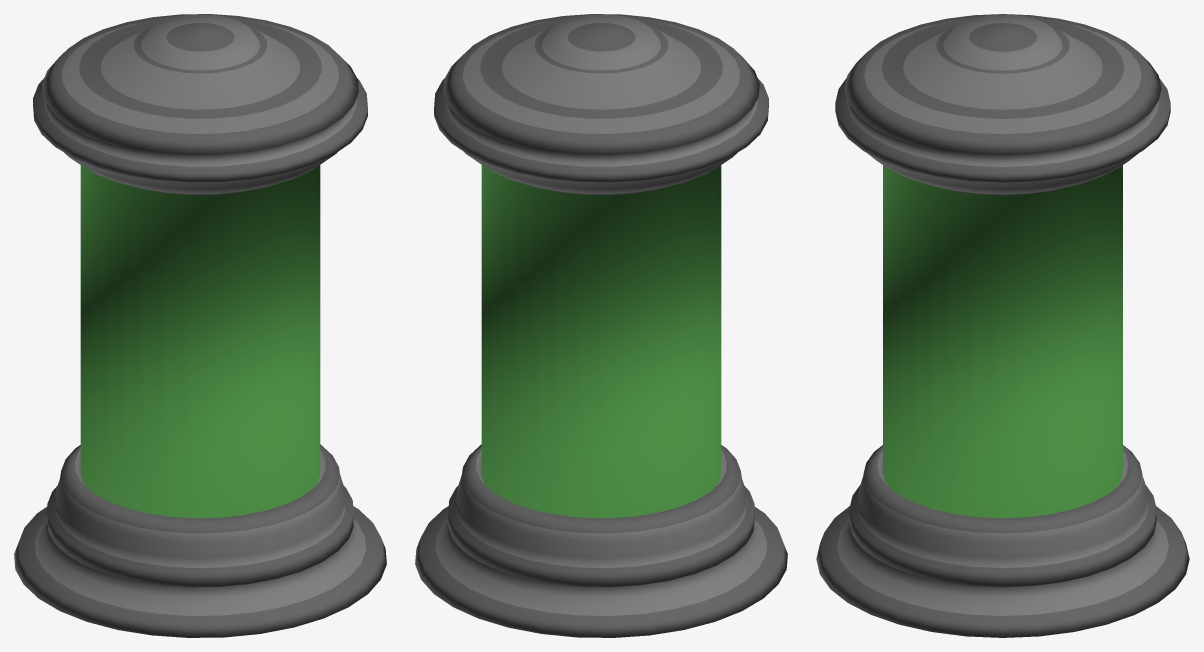
Rendered from TaddCapsule.fbx.
3 views of the same model, side by side, from view 1: azimuth 30°, elevation 25°; view 2: azimuth 150°, elevation 25°; view 3: azimuth 270°, elevation 25° (orthographic).
Visible parts, largest first — view 1: Cylinder; view 2: Cylinder; view 3: Cylinder.
Boxes of the visible parts, left/top/right/bottom form: Cylinder: left=14, top=14, right=386, bottom=637; Cylinder: left=415, top=14, right=787, bottom=637; Cylinder: left=816, top=14, right=1189, bottom=637.
Size of the model in its own units: 378 by 591 by 378.
